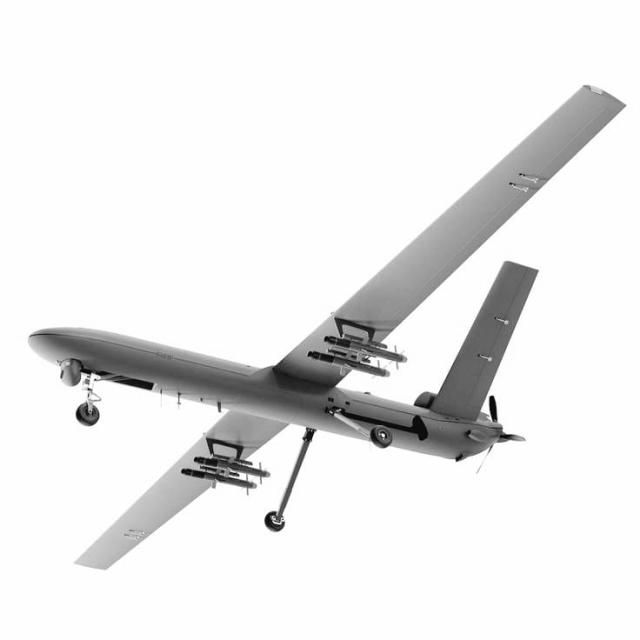iha: (4, 22, 623, 568), (4, 22, 623, 567)
